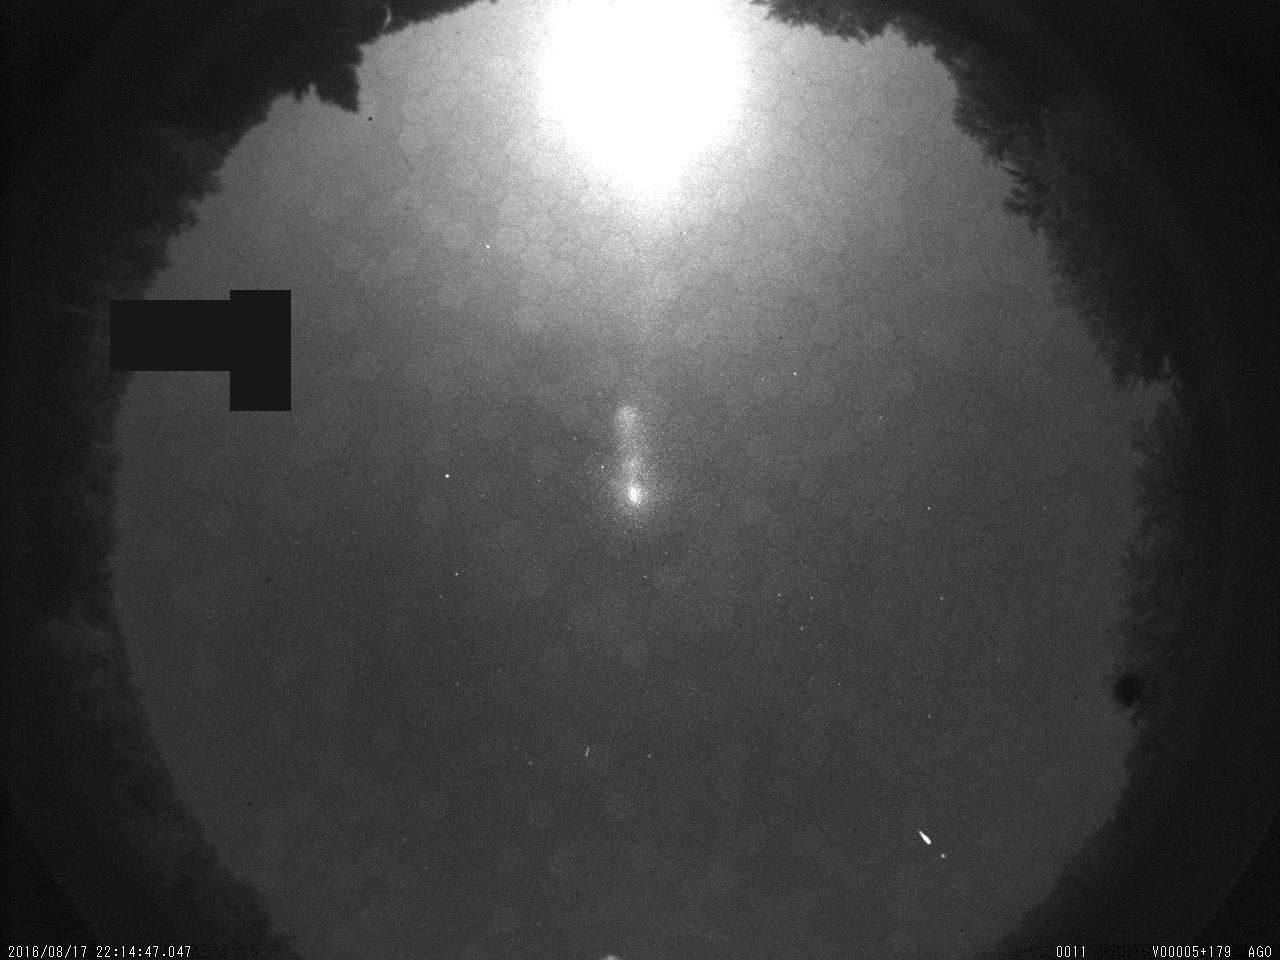meteor: (911, 822, 941, 856)
